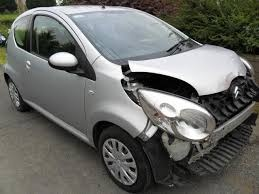Dent: (121, 44, 259, 182)
